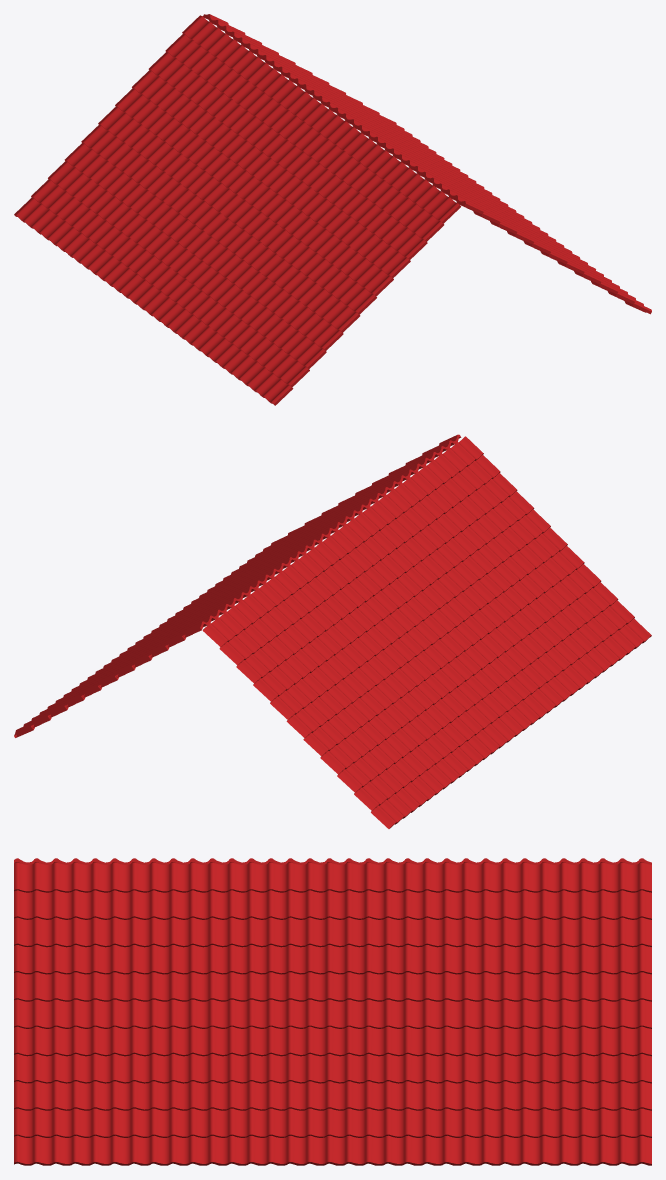
File: monterrey2.glb
3 views of the same model, one above another, from view 1: azimuth 30°, elevation 25°; view 2: azimuth 150°, elevation 25°; view 3: azimuth 270°, elevation 25° (orthographic). The views are drawn at different scales.
Parts seen in each view (by area): view 1: MONTERREY EV2.SMALL. ESAS; view 2: MONTERREY EV2.SMALL. ESAS; view 3: MONTERREY EV2.SMALL. ESAS.
Boxes of the visible parts, box(x1,y1,x2,y2) form: MONTERREY EV2.SMALL. ESAS: box(14, 14, 651, 405); MONTERREY EV2.SMALL. ESAS: box(14, 434, 651, 828); MONTERREY EV2.SMALL. ESAS: box(14, 858, 651, 1165).
Size of the model in its own units: 16.19 by 6.46 by 19.27.
